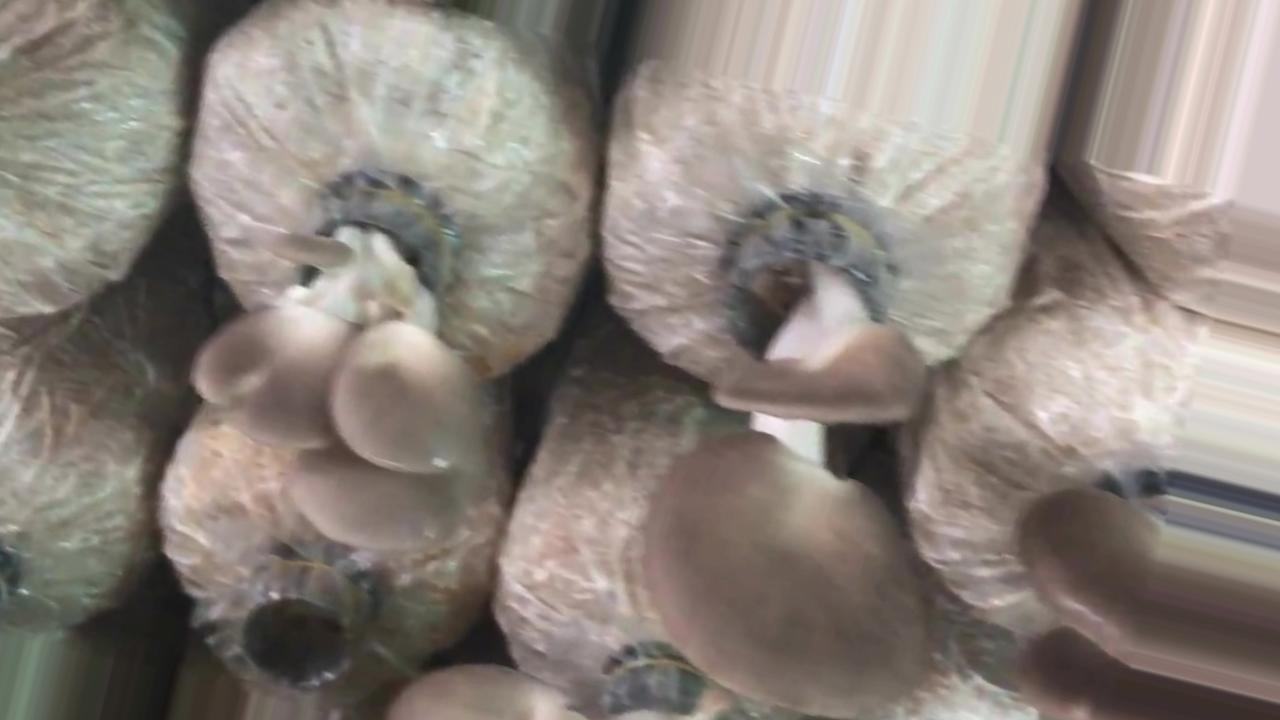nam: (643, 209, 936, 720), (186, 170, 496, 559), (1013, 484, 1280, 715)
